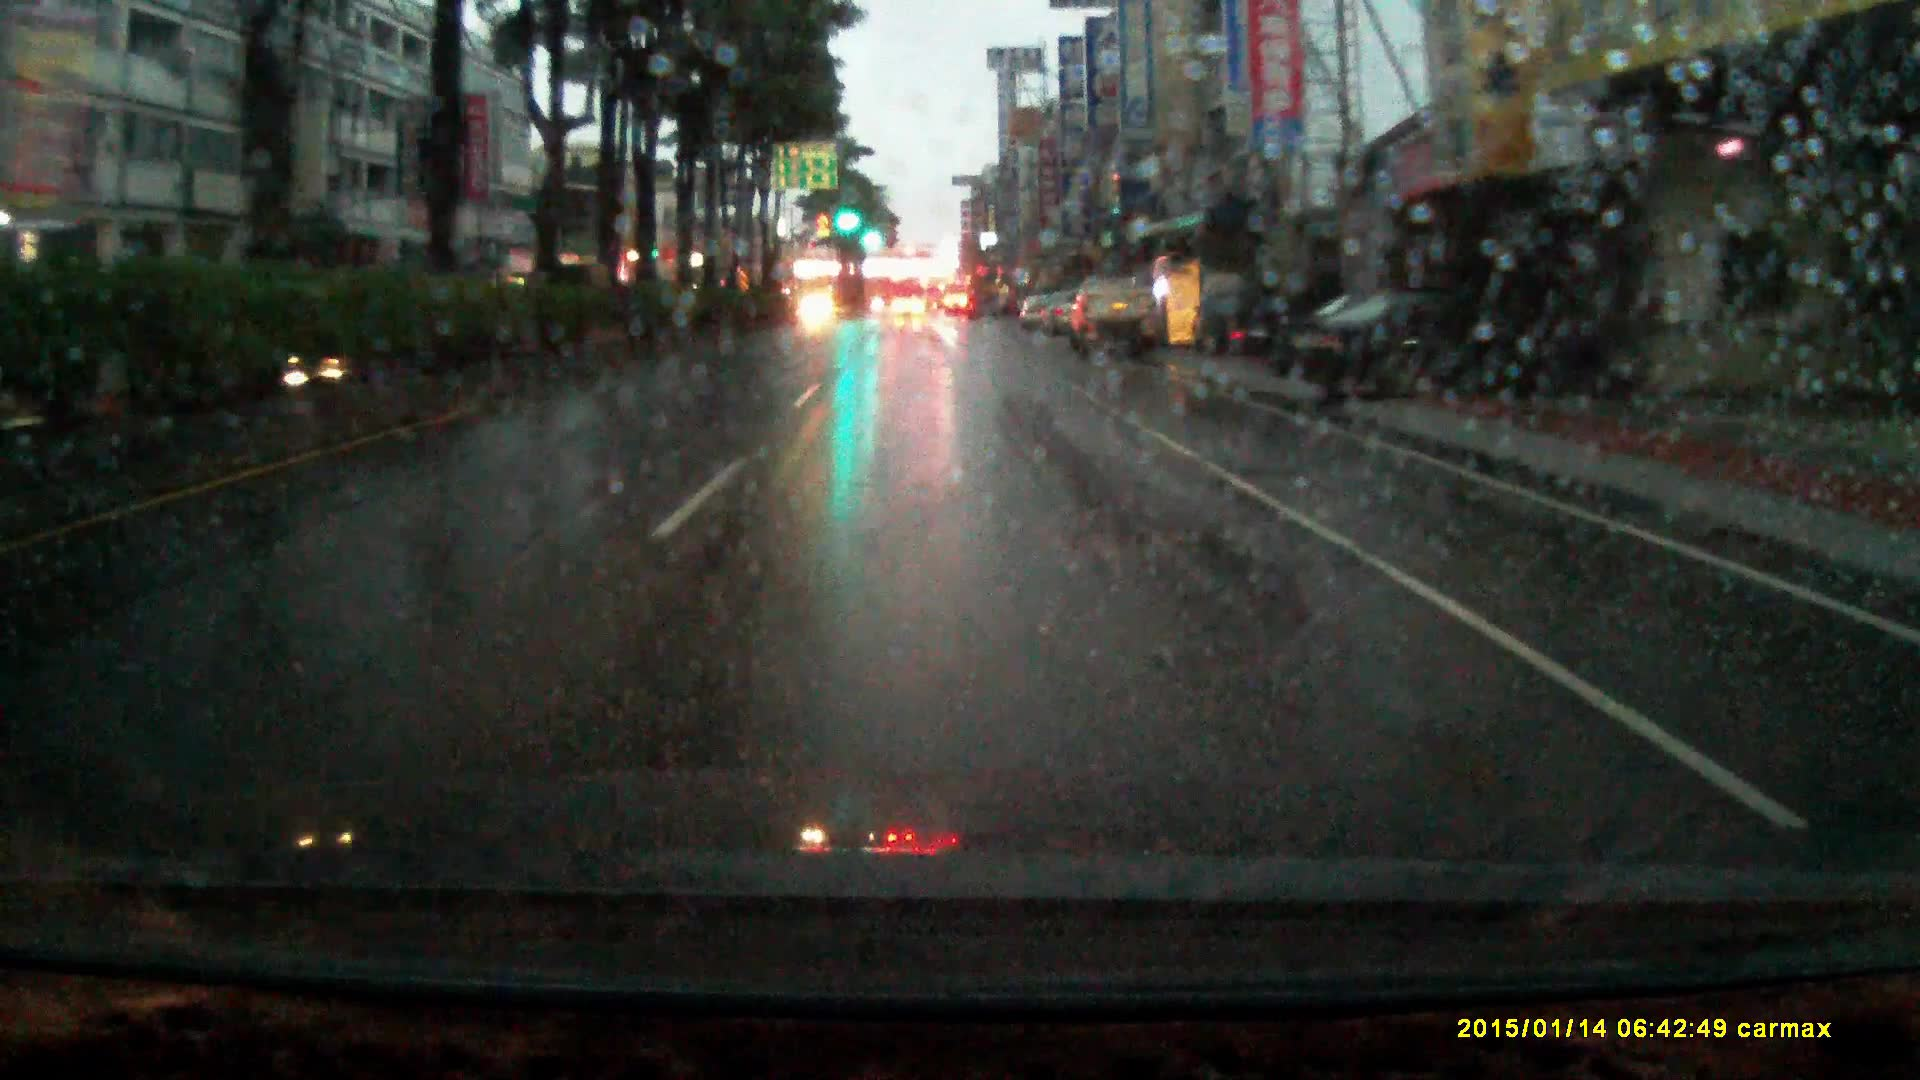vehicle: (1263, 298, 1625, 400), (1071, 278, 1156, 360), (1189, 295, 1286, 364), (796, 294, 839, 335), (891, 297, 927, 320), (924, 281, 945, 315)
